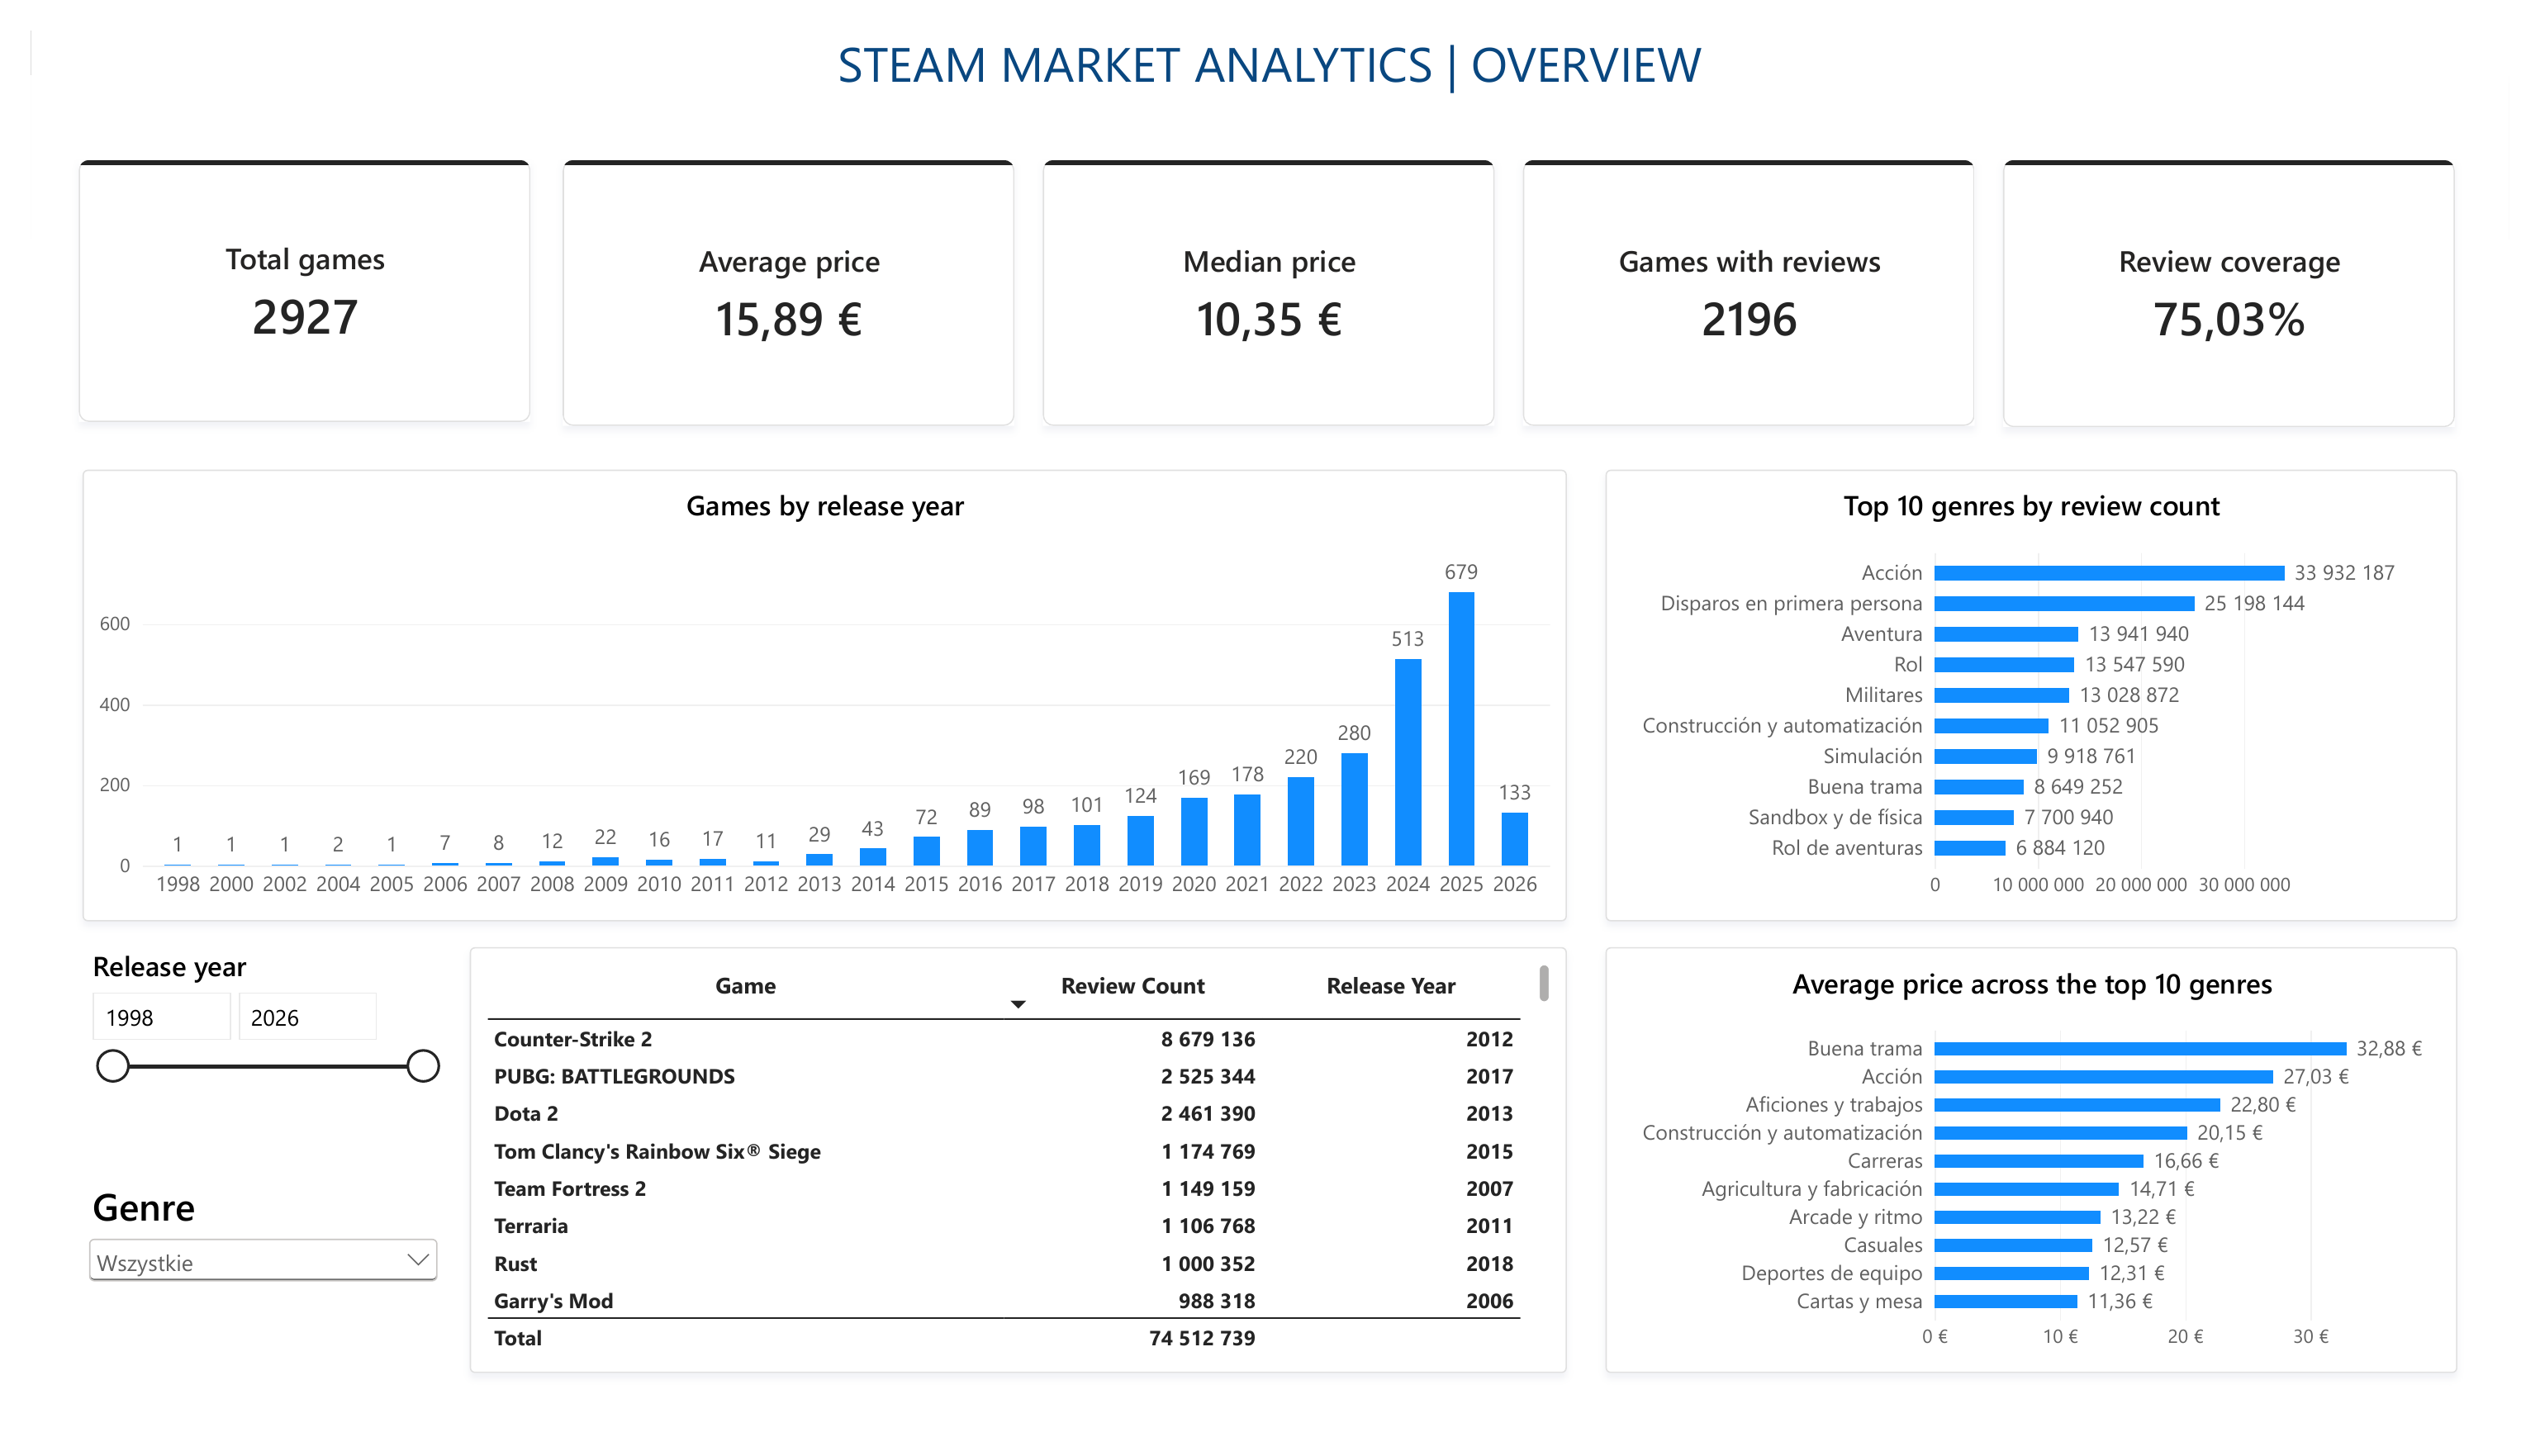

This screenshot's page, from the dashboard's own definition file:
{"tool":"powerbi","page":{"name":"Overview","canvas":[1920,1080],"ordinal":0},"visuals":[{"type":"cardVisual","fields":{"Data":["analytics steam_items.Gry z recenzjami"]},"box":[1156,100,350,205.7],"z":0},{"type":"cardVisual","fields":{"Data":["analytics steam_items.Pokrycie recenzjami"]},"box":[1528,100,350,207.1],"z":1000},{"type":"cardVisual","fields":{"Data":["analytics steam_items.Średnia cena EUR"]},"box":[411.7,100,350,205.7],"z":2000},{"type":"cardVisual","fields":{"Data":["analytics steam_items.Mediana ceny EUR"]},"box":[784,100,350,205.7],"z":3000},{"type":"clusteredColumnChart","title":"\tGames by release year","fields":{"Category":["analytics steam_items.Rok wydania"],"Y":["analytics steam_items.Liczba gier"]},"box":[40,340,1150,350],"z":4000},{"type":"clusteredBarChart","title":"\tAverage price across the top 10 genres","fields":{"Category":["analytics genres.name"],"Y":["analytics steam_items.Średnia cena EUR"]},"box":[1220,710,660,330],"z":5000},{"type":"slicer","fields":{"Values":["analytics genres.name"]},"box":[40,890,280,150],"z":6000},{"type":"slicer","fields":{"Values":["analytics steam_items.Rok wydania"]},"box":[40,710,280,150],"z":7000},{"type":"clusteredBarChart","title":"\tTop 10 genres by review count","fields":{"Category":["analytics genres.name"],"Y":["analytics steam_items.Łączna liczba recenzji"]},"box":[1220,340,660,350],"z":8000},{"type":"tableEx","fields":{"Values":["analytics steam_items.title","Sum(analytics steam_items.review_count)","Sum(analytics steam_items.Rok wydania)"]},"box":[340,710,850,330],"z":9000},{"type":"textbox","title":"Tytuł","box":[0,0,1920,91.7],"z":10000},{"type":"cardVisual","fields":{"Data":["analytics steam_items.Liczba gier"]},"box":[36.7,100,350,203.3],"z":11000}]}

Visuals, with their boxes on the page's 1920x1080 design canvas (x1, y1, x2, y2). These are canvas units, not pixel positions in the 2540x1456 screenshot, which may show the page scaled, cropped or inside an application window:
cardVisual - analytics steam_items.Gry z recenzjami: pyautogui.locateOnScreen(1156, 100, 1506, 306)
cardVisual - analytics steam_items.Pokrycie recenzjami: pyautogui.locateOnScreen(1528, 100, 1878, 307)
cardVisual - analytics steam_items.Średnia cena EUR: pyautogui.locateOnScreen(412, 100, 762, 306)
cardVisual - analytics steam_items.Mediana ceny EUR: pyautogui.locateOnScreen(784, 100, 1134, 306)
"	Games by release year" clusteredColumnChart: pyautogui.locateOnScreen(40, 340, 1190, 690)
"	Average price across the top 10 genres" clusteredBarChart: pyautogui.locateOnScreen(1220, 710, 1880, 1040)
slicer - analytics genres.name: pyautogui.locateOnScreen(40, 890, 320, 1040)
slicer - analytics steam_items.Rok wydania: pyautogui.locateOnScreen(40, 710, 320, 860)
"	Top 10 genres by review count" clusteredBarChart: pyautogui.locateOnScreen(1220, 340, 1880, 690)
tableEx - analytics steam_items.title x Sum(analytics steam_items.review_count): pyautogui.locateOnScreen(340, 710, 1190, 1040)
"Tytuł" textbox: pyautogui.locateOnScreen(0, 0, 1920, 92)
cardVisual - analytics steam_items.Liczba gier: pyautogui.locateOnScreen(37, 100, 387, 303)
